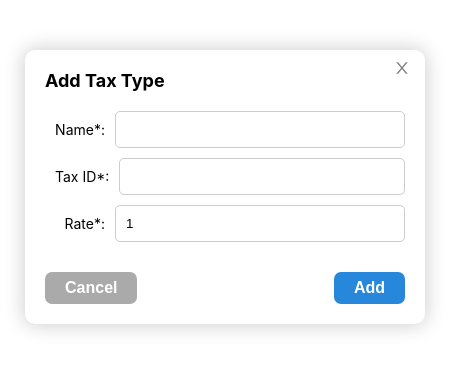
Tax Add/Edit › should validate input fields on Add - rate
Replace the text in the number field named "input-field" with "0" at coordinates (260, 224), box [115,205,405,242]
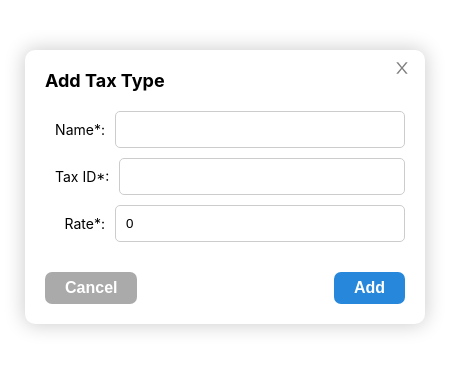
Click the button with aria-label "primary-button" at coordinates (369, 288), box [334,272,405,304]
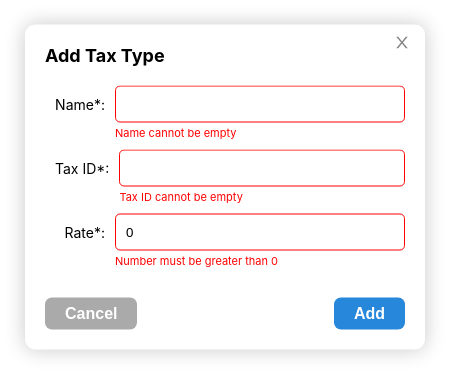
Expected: the text "Number must be greater than 0" is shown, [115,254,278,268]
